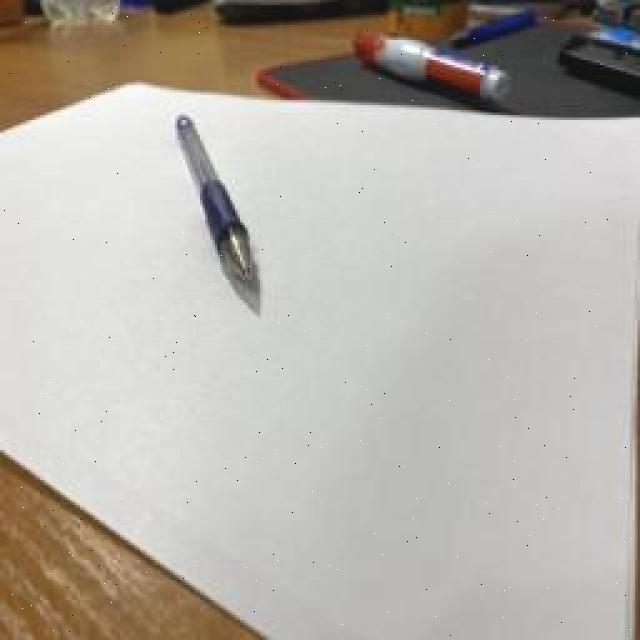pen: (175, 110, 258, 288)
